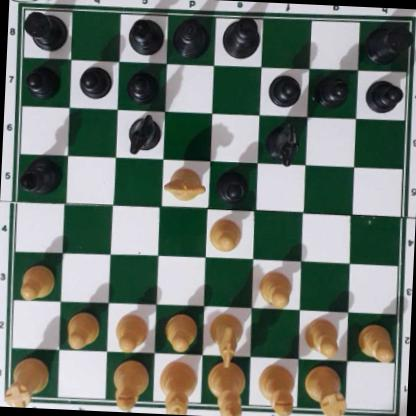black-bishop: (17, 156, 63, 194), (125, 17, 167, 56)
black-king: (220, 12, 261, 60)
black-knight: (264, 118, 299, 164), (126, 111, 160, 152)
black-pawn: (365, 76, 402, 114), (215, 166, 251, 204), (267, 70, 301, 106), (25, 63, 60, 97), (316, 72, 348, 107), (78, 64, 110, 99), (127, 67, 158, 103)
black-queen: (171, 14, 211, 60)
black-rook: (365, 17, 411, 64), (19, 7, 68, 51)
white-bishop: (111, 360, 150, 413), (257, 364, 296, 415)
white-king: (204, 359, 247, 416)
white-knight: (207, 310, 246, 369), (161, 166, 204, 202)
white-pawn: (302, 315, 341, 356), (356, 321, 395, 360), (255, 267, 292, 308), (17, 262, 55, 300), (63, 308, 99, 348), (112, 310, 147, 351), (162, 311, 197, 351), (207, 216, 242, 252)
white-queen: (156, 359, 199, 416)
white-rook: (6, 351, 48, 408), (305, 362, 346, 416)
